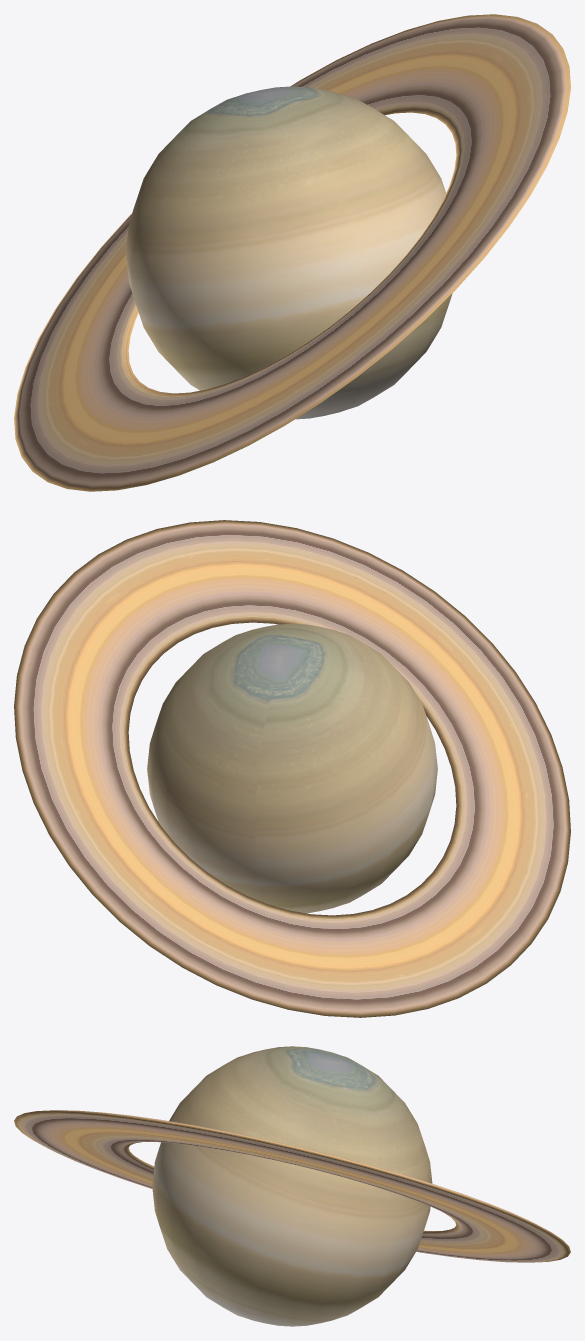
Rendered from Saturn.glb.
3 renders of one model, top to bottom at view 1: azimuth 30°, elevation 25°; view 2: azimuth 150°, elevation 25°; view 3: azimuth 270°, elevation 25°, orthographic. The views are drawn at different scales.
Parts seen in each view (by area): view 1: Saturn; view 2: Saturn; view 3: Saturn.
Boxes of the visible parts, left/top/right/bottom form: Saturn: left=14, top=14, right=570, bottom=491; Saturn: left=14, top=520, right=570, bottom=1017; Saturn: left=14, top=1046, right=570, bottom=1326.
Size of the model in its own units: 17.3 by 11.77 by 19.85.
Materials: 2 (2 with a texture image).
